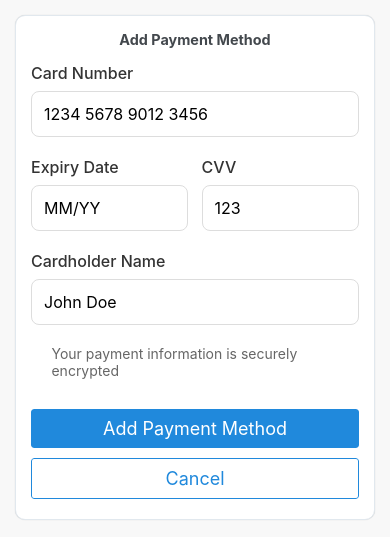
Test: AddPaymentMethodScreen › formats card number with spaces
In the field with placeholder "1234 5678 9012 3456": (195,114) [31,91,359,137], type "4242424242424242"
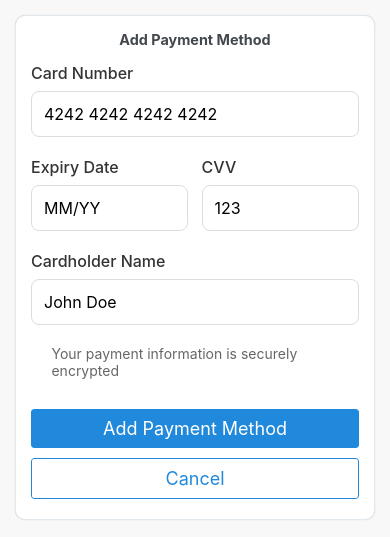
Now the field with placeholder "1234 5678 9012 3456" holds "4242 4242 4242 4242", box [31,91,359,137]
